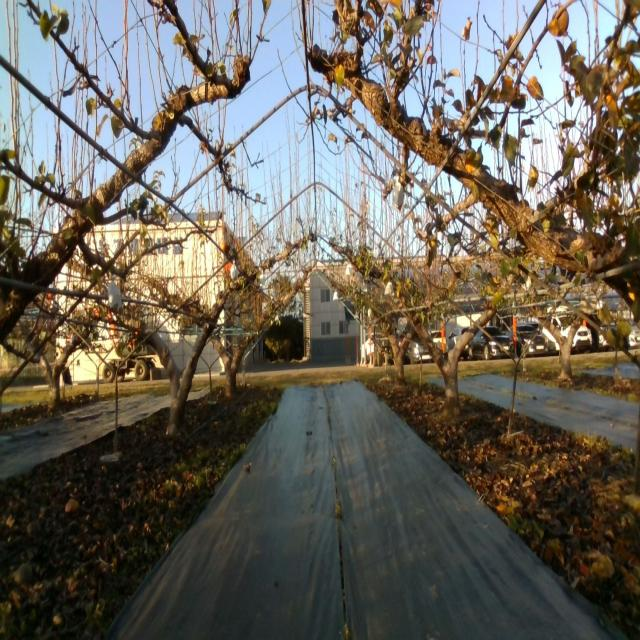pearbags: (108, 274, 122, 310), (392, 177, 404, 216)
